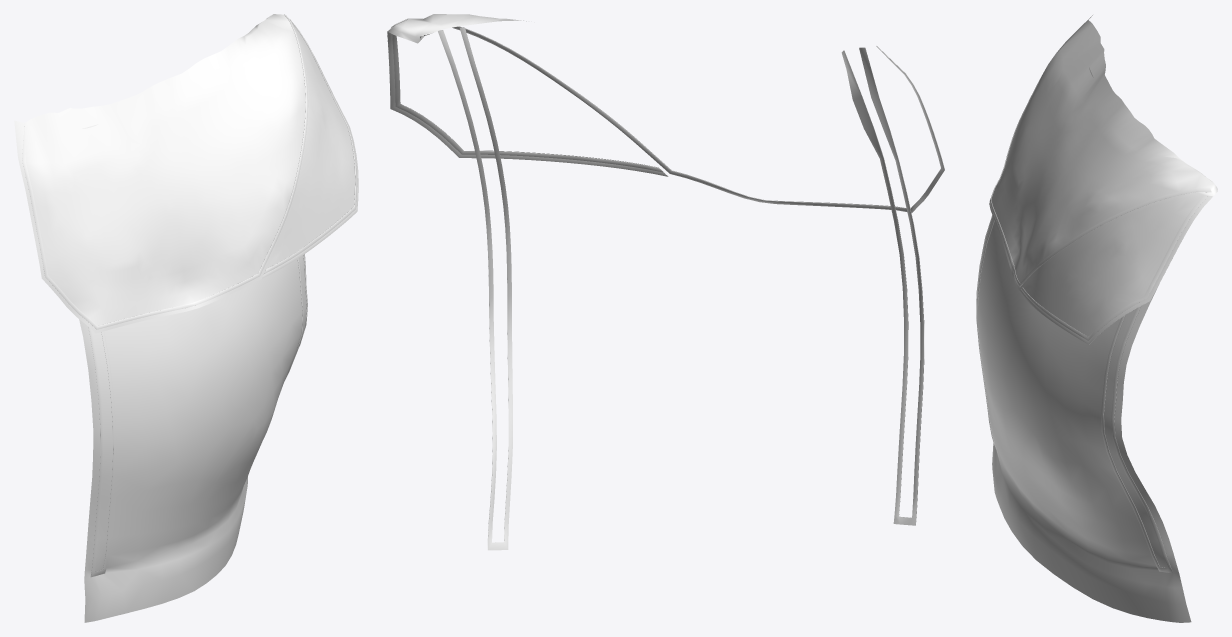
File: Jac_Pocket_Decor_RIGHT_V1.glb
The picture shows the model from 3 angles, left to right: view 1: azimuth 30°, elevation 25°; view 2: azimuth 150°, elevation 25°; view 3: azimuth 270°, elevation 25°; orthographic projection. The views are drawn at different scales.
Parts seen in each view (by area): view 1: Jac_Pocket_RIGHT_V2.001, Jac_Rope_Pocket_RIGHT_V2.001; view 2: Jac_Rope_Pocket_RIGHT_V2.001, Jac_Pocket_RIGHT_V2.001; view 3: Jac_Pocket_RIGHT_V2.001, Jac_Rope_Pocket_RIGHT_V2.001.
Boxes of the visible parts, left/top/right/bottom form: Jac_Pocket_RIGHT_V2.001: left=14, top=14, right=358, bottom=622; Jac_Rope_Pocket_RIGHT_V2.001: left=22, top=14, right=357, bottom=577; Jac_Rope_Pocket_RIGHT_V2.001: left=391, top=18, right=944, bottom=550; Jac_Pocket_RIGHT_V2.001: left=387, top=14, right=668, bottom=176; Jac_Pocket_RIGHT_V2.001: left=977, top=15, right=1217, bottom=622; Jac_Rope_Pocket_RIGHT_V2.001: left=976, top=20, right=1211, bottom=573.
Size of the model in its own units: 0.213 by 0.2689 by 0.1211.
Materials: 2 (2 with a texture image).
